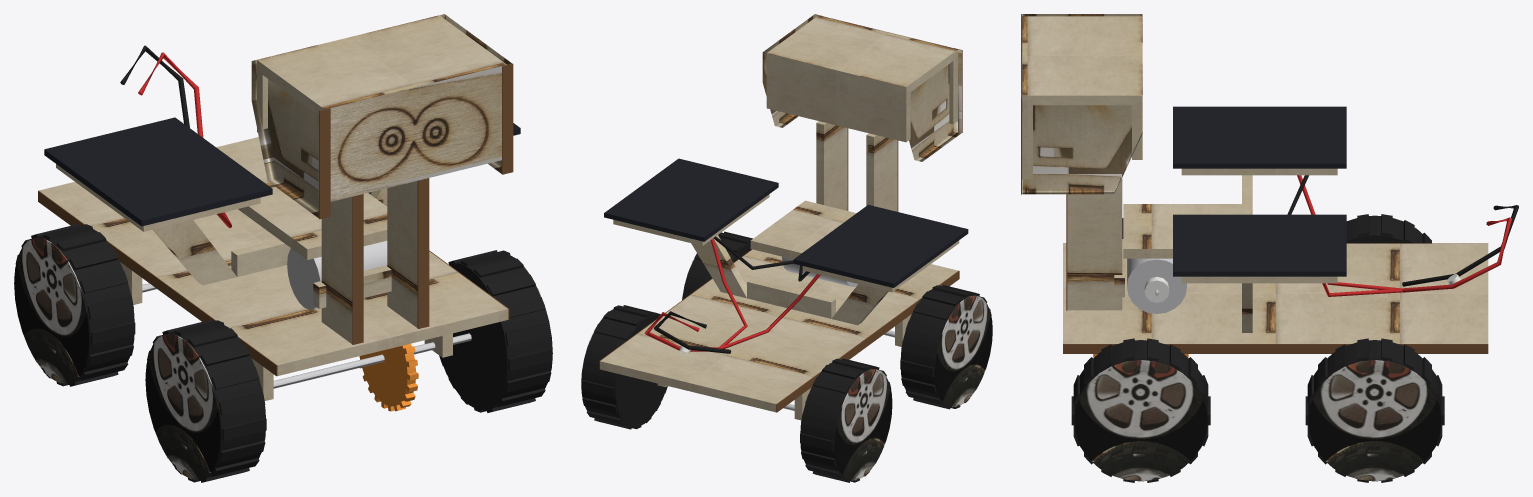
Rendered from carrito_solar_juego.glb.
3 renders of one model, left to right at view 1: azimuth 30°, elevation 25°; view 2: azimuth 150°, elevation 25°; view 3: azimuth 270°, elevation 25°, orthographic. The views are drawn at different scales.
Visible parts, largest first — view 1: CS_Base, CS_Neumatico_Del_-1, CS_Cabeza_Ojos, CS_Panel_-1, CS_Base_Canto_-1, CS_Llanta_Del_-1, CS_Llanta_Tras_-1, CS_Cabeza_Lateral_-1, CS_Eje_Del, CS_Engranaje_Grande, CS_Cable_R_-1, CS_Cable_N_-1; view 2: CS_Base, CS_Panel_-1, CS_Neumatico_Del_-1, CS_Llanta_Tras_-1, CS_Llanta_Del_-1, CS_Cabeza_Lateral_-1, CS_Base_Canto_-1, CS_Cable_R_-1, CS_Cable_N_-1, CS_Eje_Del; view 3: CS_Base, CS_Panel_-1, CS_Llanta_Del_-1, CS_Llanta_Tras_-1, CS_Neumatico_Del_-1, CS_Cabeza_Lateral_-1, CS_Base_Canto_-1, CS_Eje_Del, CS_Cable_R_-1, CS_Cable_N_-1, CS_Pinon.
Boxes of the visible parts, x1=… form: CS_Base: x1=39, y1=15, x2=508, y2=400; CS_Neumatico_Del_-1: x1=14, y1=192, x2=552, y2=482; CS_Cabeza_Ojos: x1=325, y1=66, x2=501, y2=201; CS_Panel_-1: x1=44, y1=117, x2=520, y2=226; CS_Base_Canto_-1: x1=38, y1=63, x2=513, y2=376; CS_Llanta_Del_-1: x1=145, y1=258, x2=552, y2=479; CS_Llanta_Tras_-1: x1=14, y1=237, x2=89, y2=383; CS_Cabeza_Lateral_-1: x1=251, y1=14, x2=511, y2=218; CS_Eje_Del: x1=142, y1=241, x2=471, y2=388; CS_Engranaje_Grande: x1=359, y1=343, x2=418, y2=411; CS_Cable_R_-1: x1=138, y1=52, x2=231, y2=228; CS_Cable_N_-1: x1=120, y1=45, x2=189, y2=127; CS_Base: x1=600, y1=15, x2=959, y2=420; CS_Panel_-1: x1=604, y1=158, x2=968, y2=287; CS_Neumatico_Del_-1: x1=581, y1=231, x2=991, y2=482; CS_Llanta_Tras_-1: x1=581, y1=311, x2=892, y2=480; CS_Llanta_Del_-1: x1=682, y1=258, x2=992, y2=407; CS_Cabeza_Lateral_-1: x1=762, y1=14, x2=961, y2=161; CS_Base_Canto_-1: x1=599, y1=14, x2=962, y2=412; CS_Cable_R_-1: x1=644, y1=238, x2=820, y2=351; CS_Cable_N_-1: x1=654, y1=236, x2=809, y2=353; CS_Eje_Del: x1=782, y1=256, x2=894, y2=410; CS_Base: x1=1022, y1=16, x2=1488, y2=343; CS_Panel_-1: x1=1173, y1=106, x2=1346, y2=276; CS_Llanta_Del_-1: x1=1074, y1=360, x2=1207, y2=481; CS_Llanta_Tras_-1: x1=1308, y1=360, x2=1441, y2=481; CS_Neumatico_Del_-1: x1=1071, y1=214, x2=1444, y2=482; CS_Cabeza_Lateral_-1: x1=1022, y1=14, x2=1142, y2=194; CS_Base_Canto_-1: x1=1021, y1=14, x2=1488, y2=353; CS_Eje_Del: x1=1127, y1=258, x2=1186, y2=313; CS_Cable_R_-1: x1=1297, y1=175, x2=1511, y2=296; CS_Cable_N_-1: x1=1287, y1=175, x2=1518, y2=286; CS_Pinon: x1=1144, y1=273, x2=1461, y2=302.
Size of the model in its own units: 1.1 by 1.11 by 1.4.
13 materials, 5 textured.
